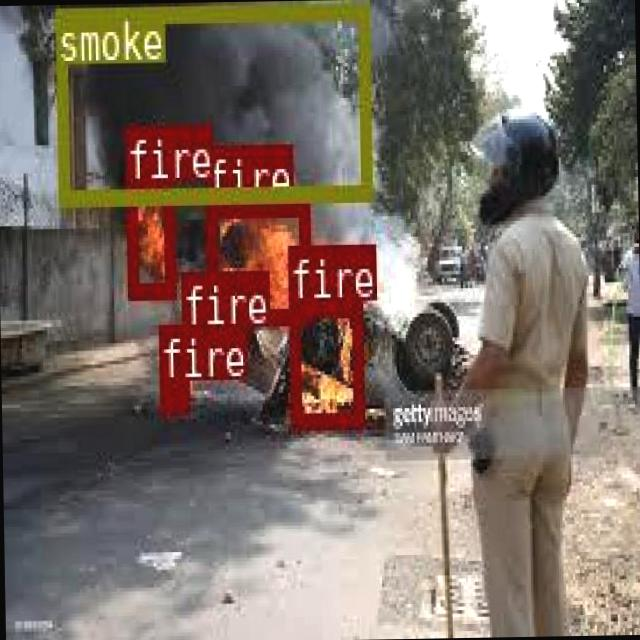fire: (204, 196, 308, 320), (288, 299, 362, 426), (124, 180, 173, 296), (180, 326, 202, 368), (159, 380, 186, 410)
smoke: (54, 2, 369, 200)
